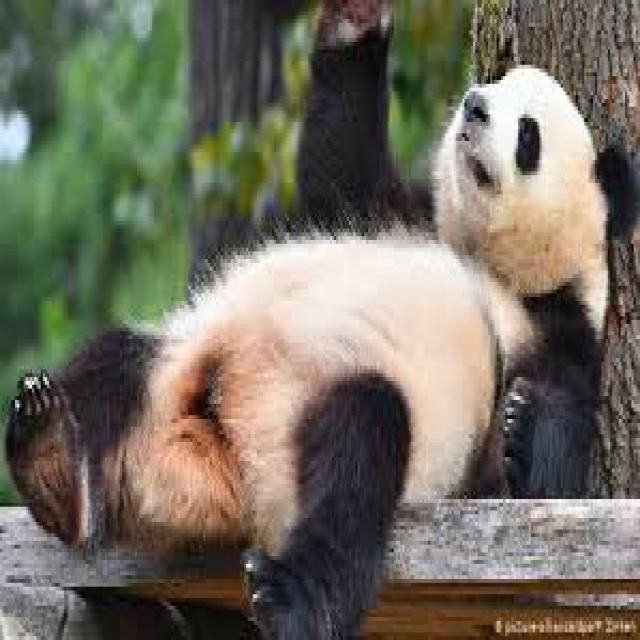panda: (4, 0, 638, 636)
